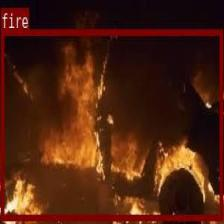fire: (1, 29, 222, 220)
